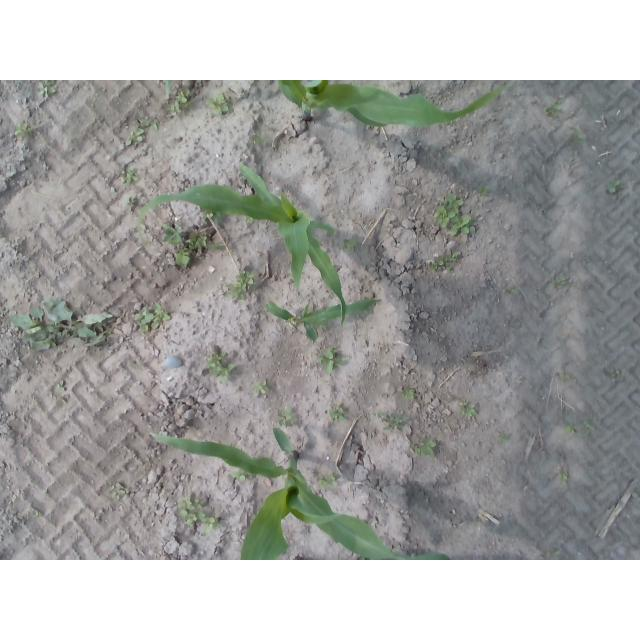Maize: (149, 428, 451, 560), (136, 165, 346, 322), (166, 80, 502, 124), (266, 298, 382, 338)
Weeds: (9, 301, 115, 348), (132, 303, 172, 329), (204, 354, 238, 382), (435, 207, 454, 230), (412, 439, 436, 456), (208, 95, 229, 114), (164, 226, 185, 243), (318, 349, 335, 370), (452, 216, 471, 234), (187, 235, 207, 252), (446, 195, 463, 214), (238, 270, 255, 289), (226, 284, 244, 301), (127, 130, 146, 146), (122, 167, 139, 184), (276, 408, 292, 426), (252, 380, 269, 395), (110, 483, 126, 498), (328, 406, 344, 420), (547, 105, 561, 120), (177, 90, 192, 104), (460, 403, 476, 416), (179, 501, 193, 515), (315, 476, 328, 491), (38, 82, 54, 94), (445, 251, 462, 262), (608, 179, 621, 193), (177, 250, 192, 262), (232, 471, 249, 481), (431, 258, 445, 270), (344, 235, 356, 249), (190, 498, 203, 510), (201, 516, 214, 528), (328, 472, 339, 486), (250, 132, 262, 144), (15, 123, 27, 135), (138, 121, 158, 128), (474, 186, 488, 195), (170, 103, 181, 114), (186, 515, 197, 525), (565, 423, 575, 434), (558, 475, 568, 485), (128, 197, 137, 207), (556, 277, 566, 286), (585, 422, 595, 431), (575, 134, 586, 141), (505, 287, 516, 294), (402, 389, 414, 395), (58, 382, 66, 390), (611, 369, 618, 378), (447, 267, 453, 272)
